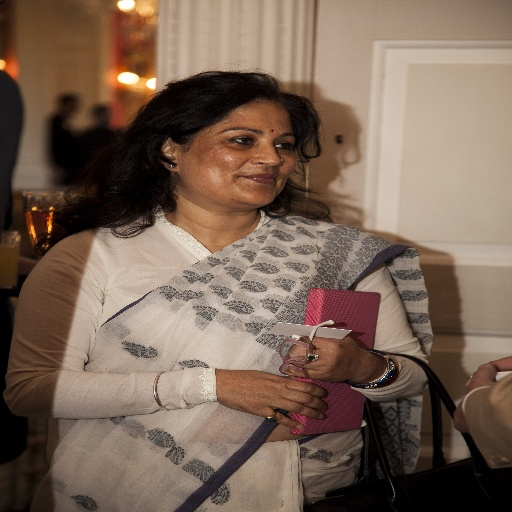hand: (205, 372, 354, 425), (284, 331, 366, 383), (448, 362, 498, 438), (461, 355, 511, 386)
